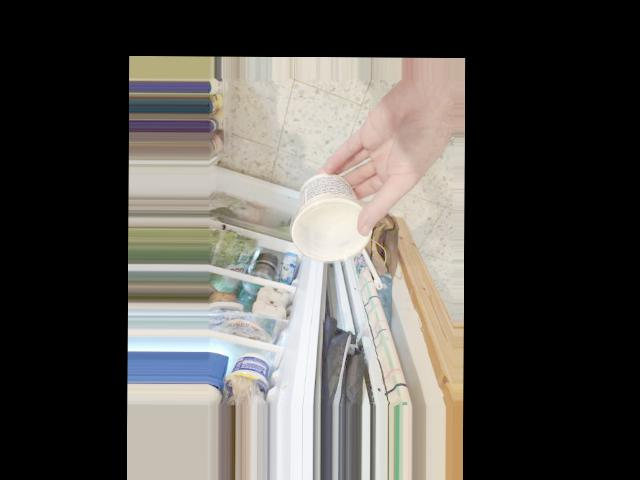cotage: (292, 174, 362, 258)
